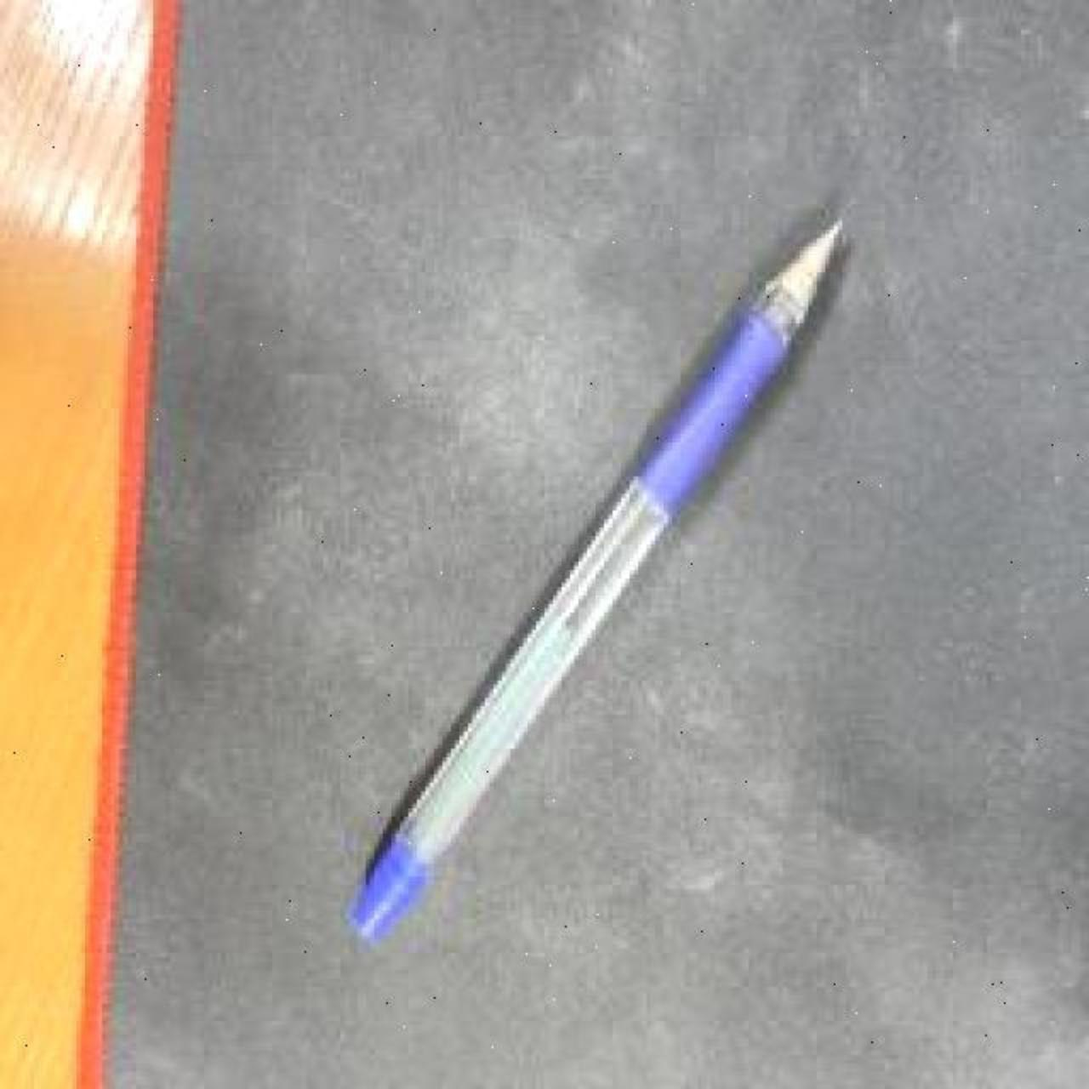pen: (349, 218, 842, 946)
